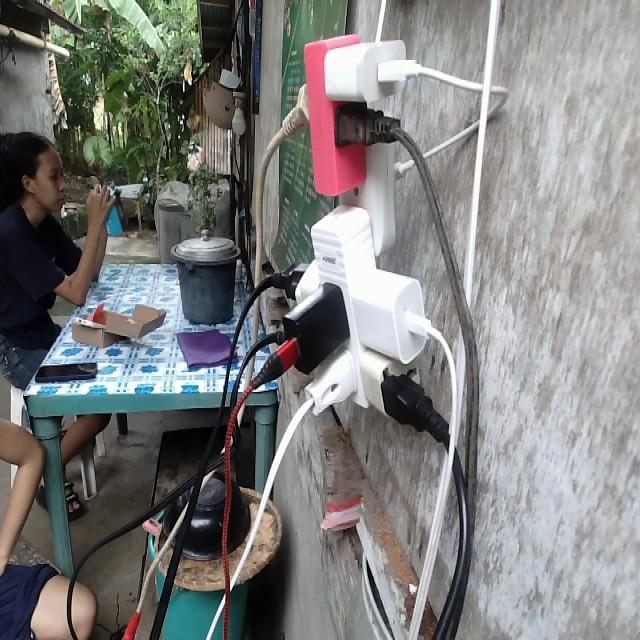-: (275, 28, 455, 475)
